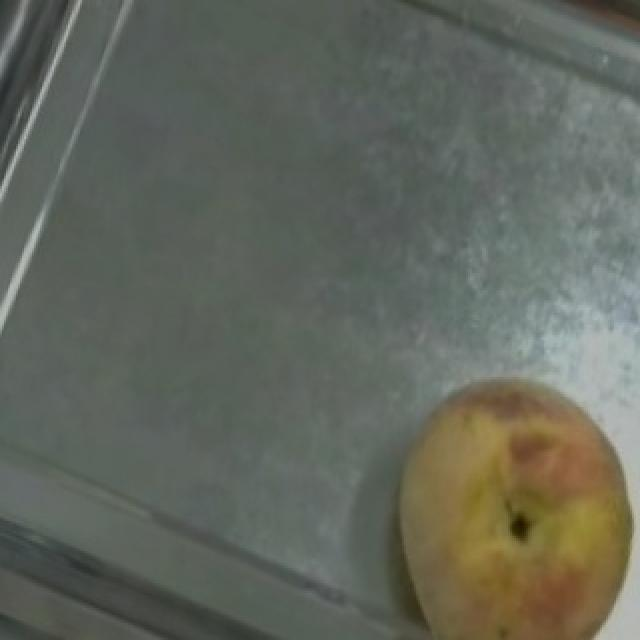Fruit: (348, 345, 640, 640)
